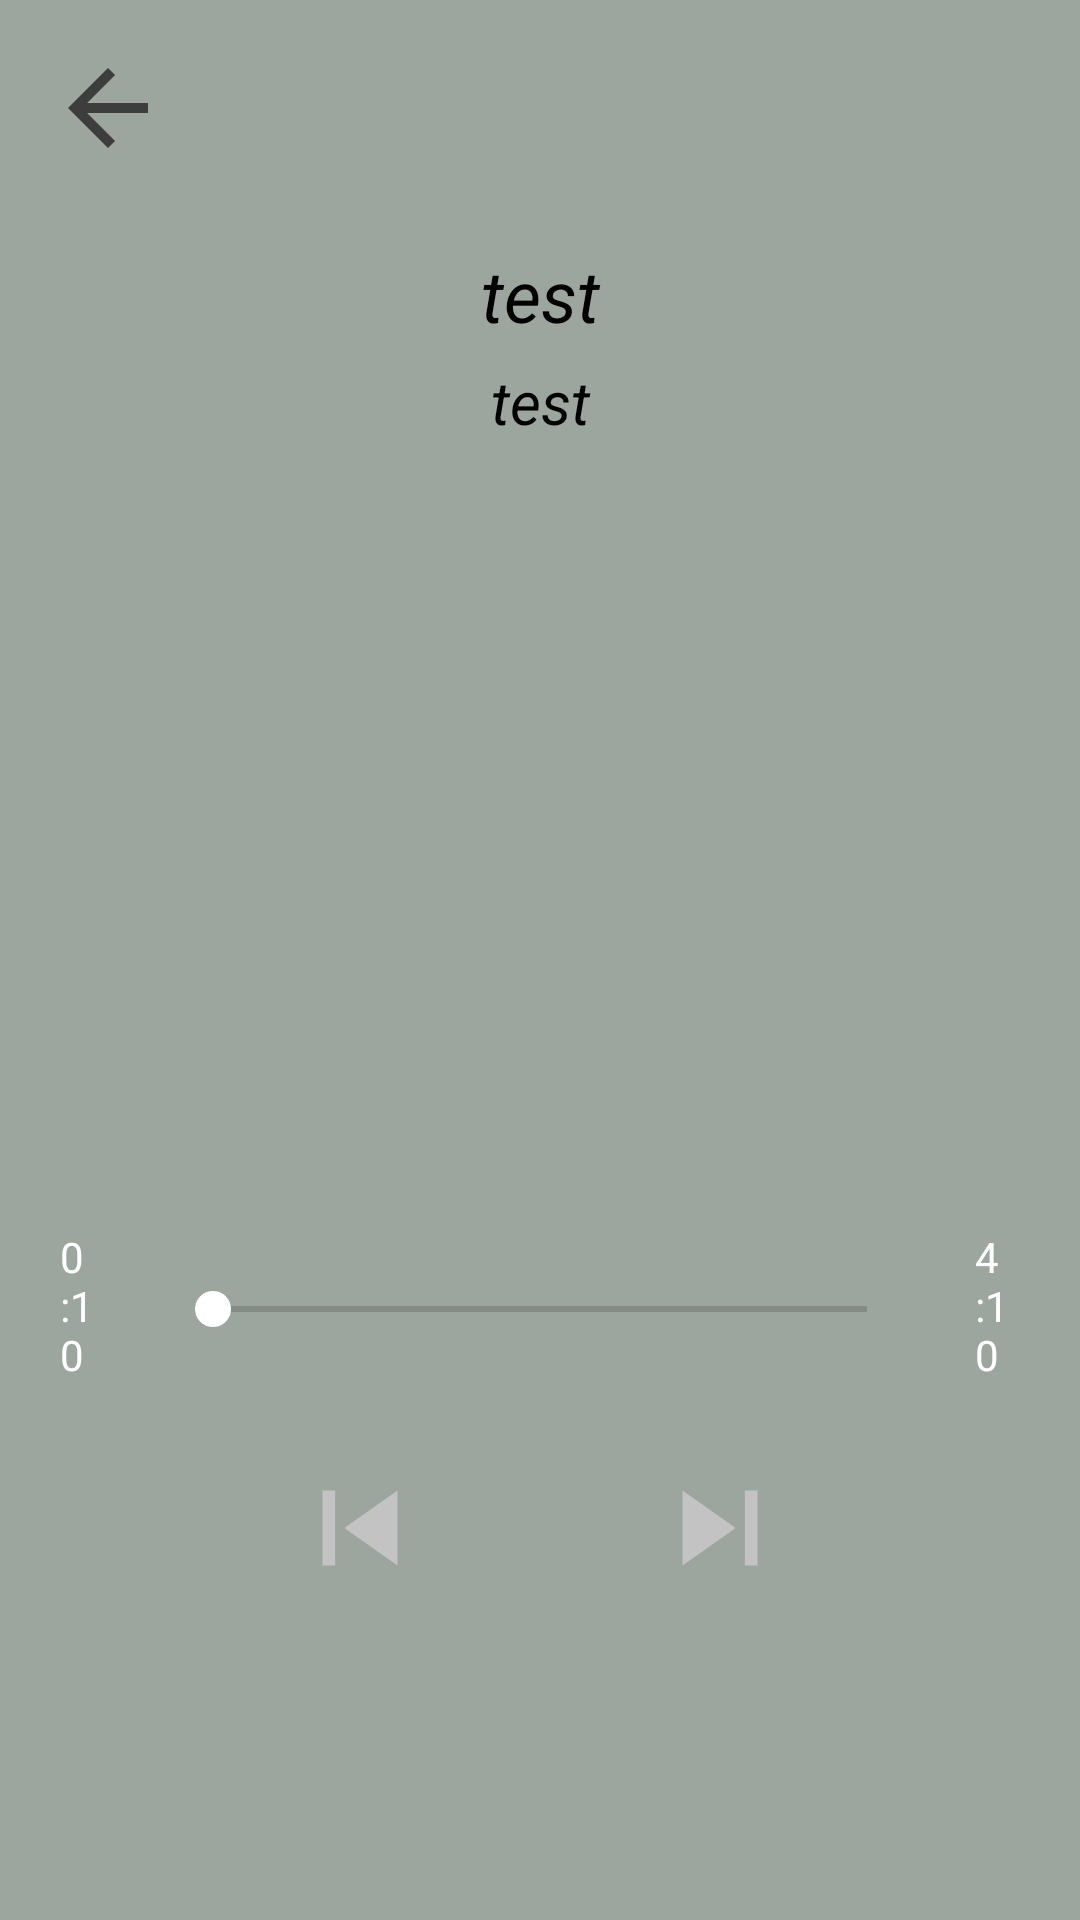

Named icons in this screenshot (1080*1920) and their bounding boxes, (x1, y1, x2, y2):
arrow back: (68, 68, 148, 148)
next: (683, 1491, 757, 1565)
previous: (323, 1491, 397, 1565)
